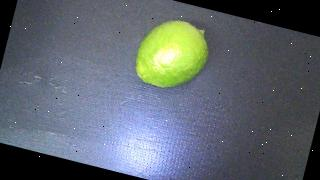EXPORTACION: (131, 13, 215, 97)
